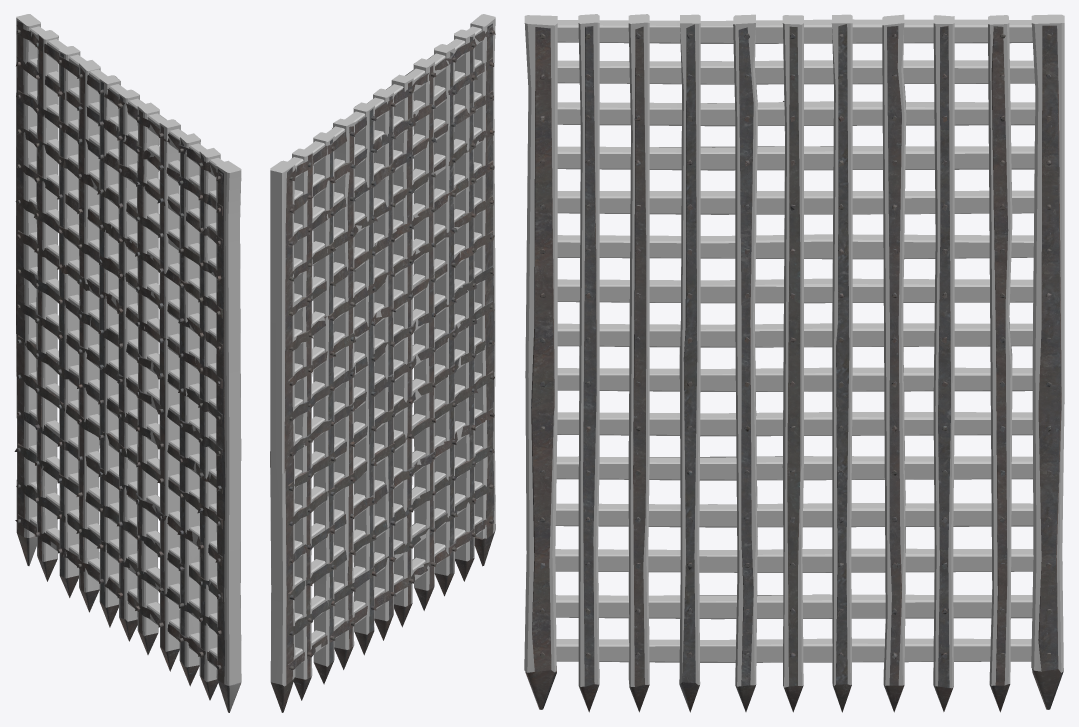
Rendered from SM_Portcullis.fbx.
3 renders of one model, left to right at view 1: azimuth 30°, elevation 25°; view 2: azimuth 150°, elevation 25°; view 3: azimuth 270°, elevation 25°, orthographic. The views are drawn at different scales.
Visible parts, largest first — view 1: SM_Portcullis_LOD0; view 2: SM_Portcullis_LOD0; view 3: SM_Portcullis_LOD0.
Boxes of the visible parts, left/top/right/bottom form: SM_Portcullis_LOD0: left=14, top=14, right=241, bottom=712; SM_Portcullis_LOD0: left=270, top=14, right=495, bottom=712; SM_Portcullis_LOD0: left=524, top=14, right=1064, bottom=712.
Bounding box in the file's own units: 29.22 × 425 × 603.
